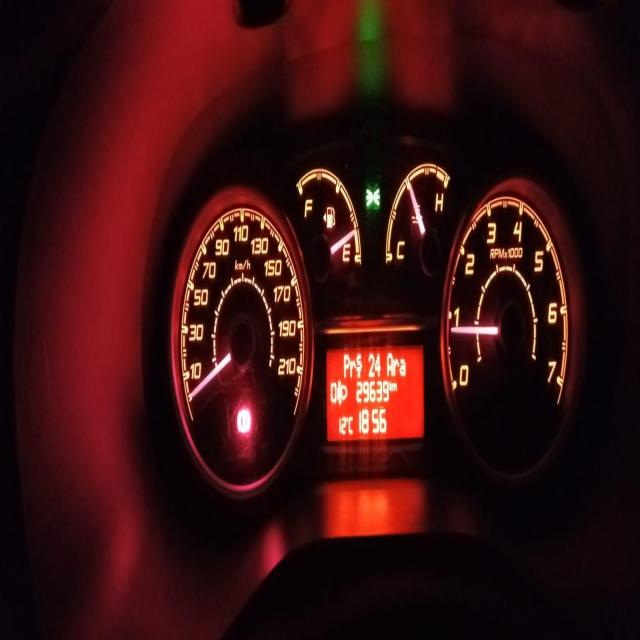odometer: (324, 340, 426, 444)
